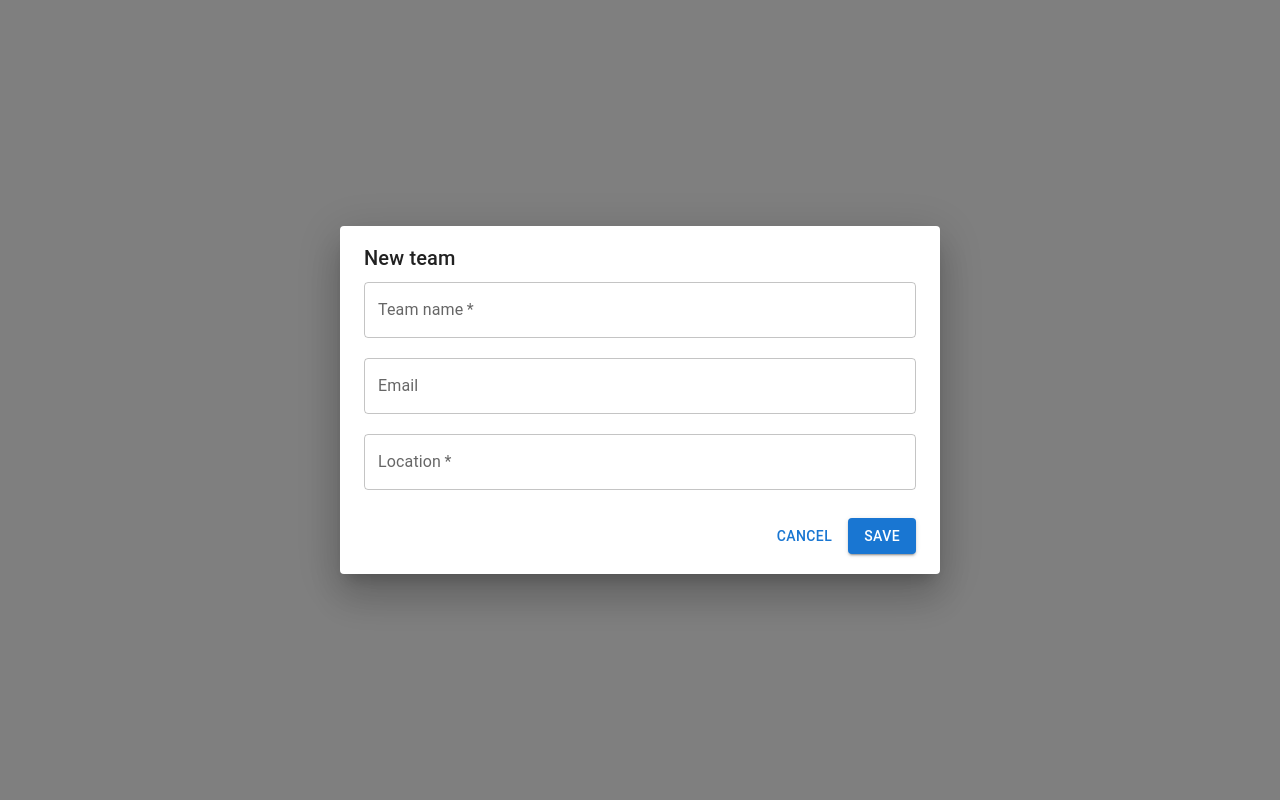
it: validation › rejects a malformed email
Type "Platform" into the field labelled "Team name *".
click(640, 310); type("Platform")  # box [364,282,916,338]
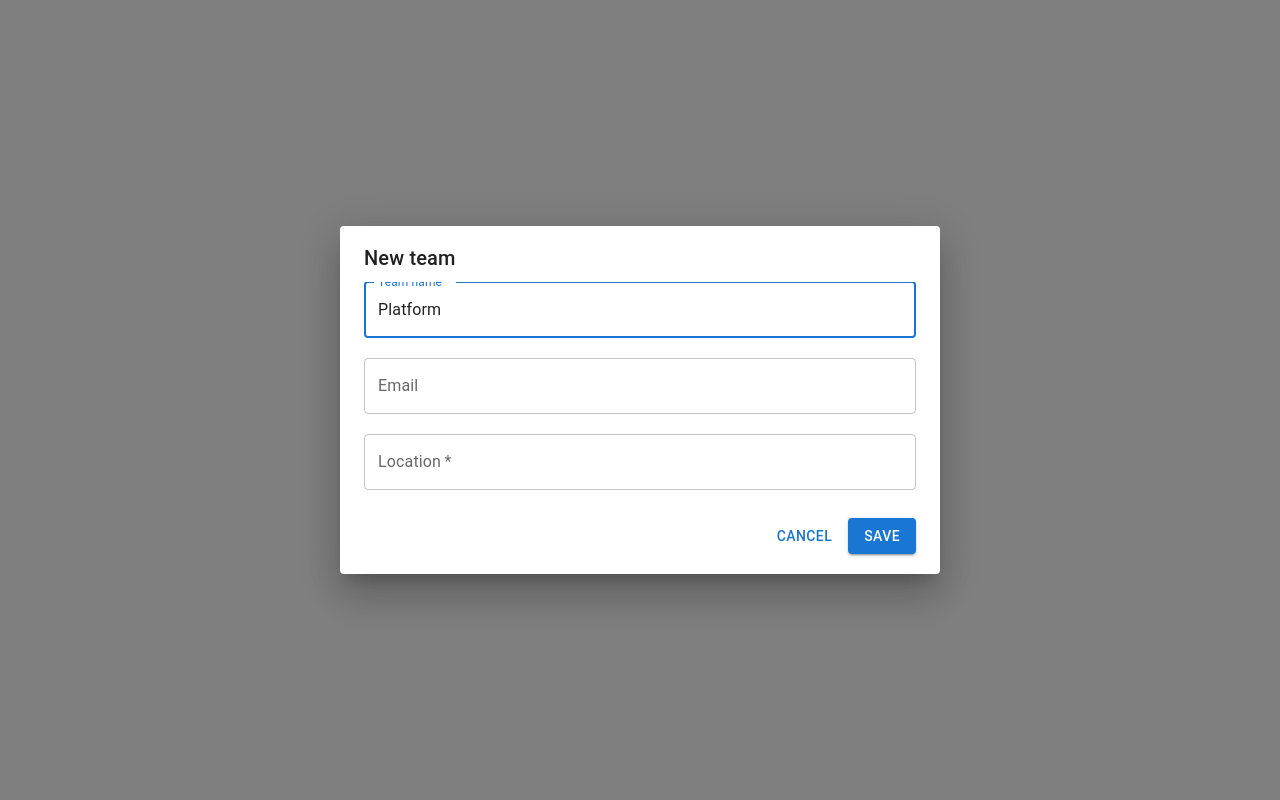
Type "London" into the field labelled "Location *".
click(640, 462); type("London")  # box [364,434,916,490]
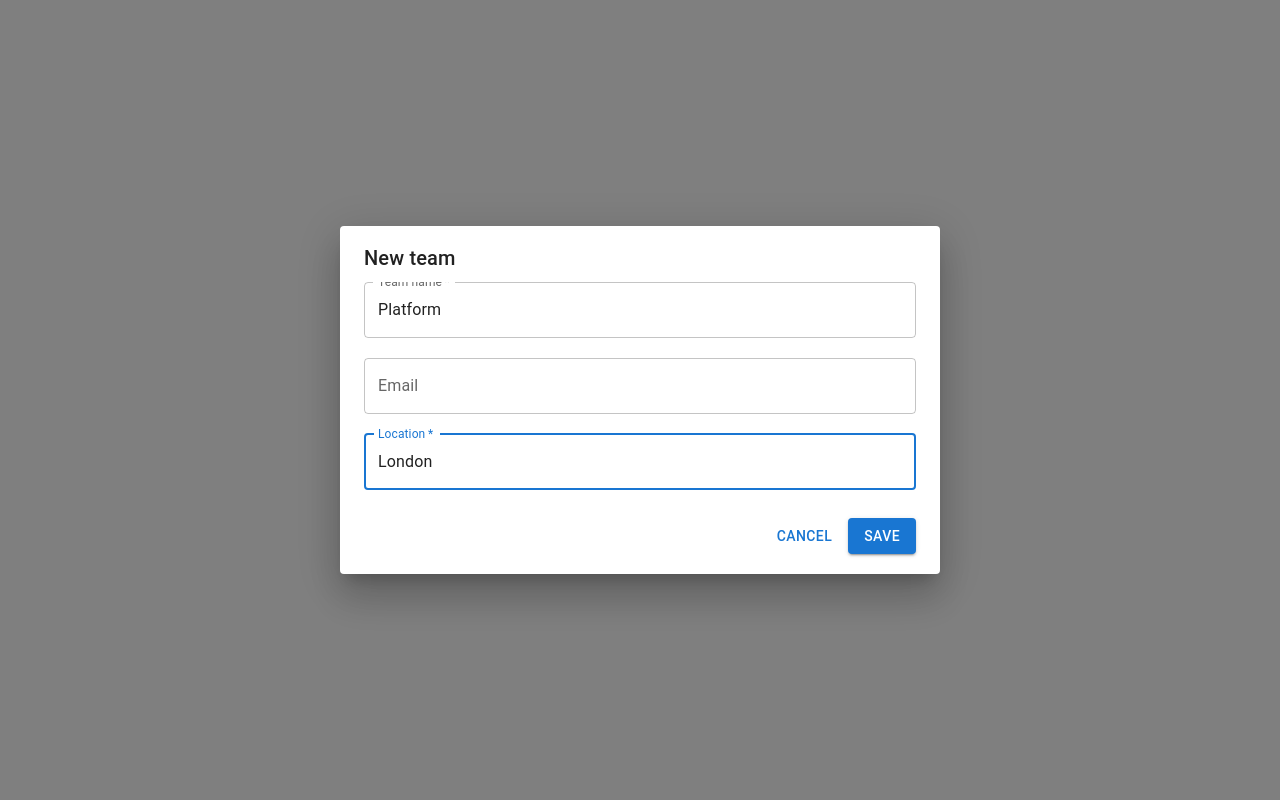
Type "not-an-email" into the field labelled "Email".
click(640, 386); type("not-an-email")  # box [364,358,916,414]
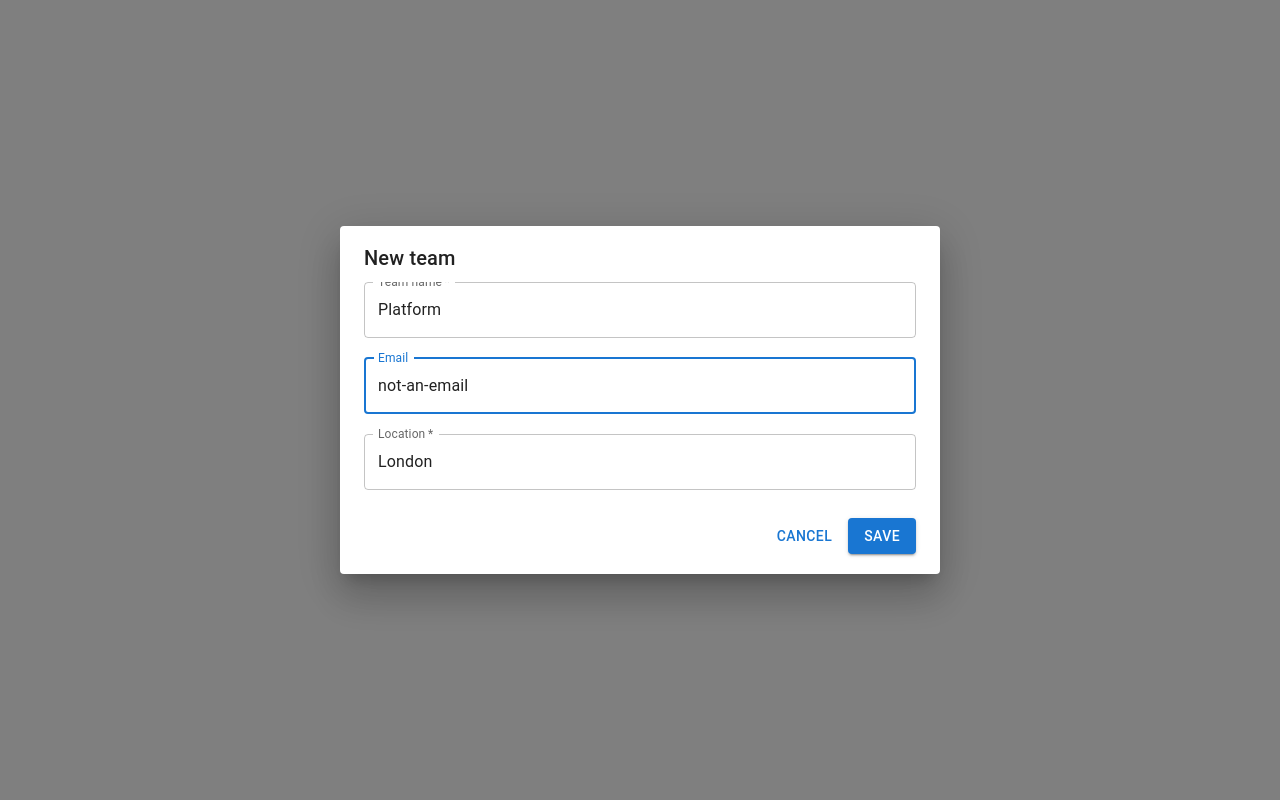
Click the button "Save".
click(882, 536)  # box [848,518,916,554]
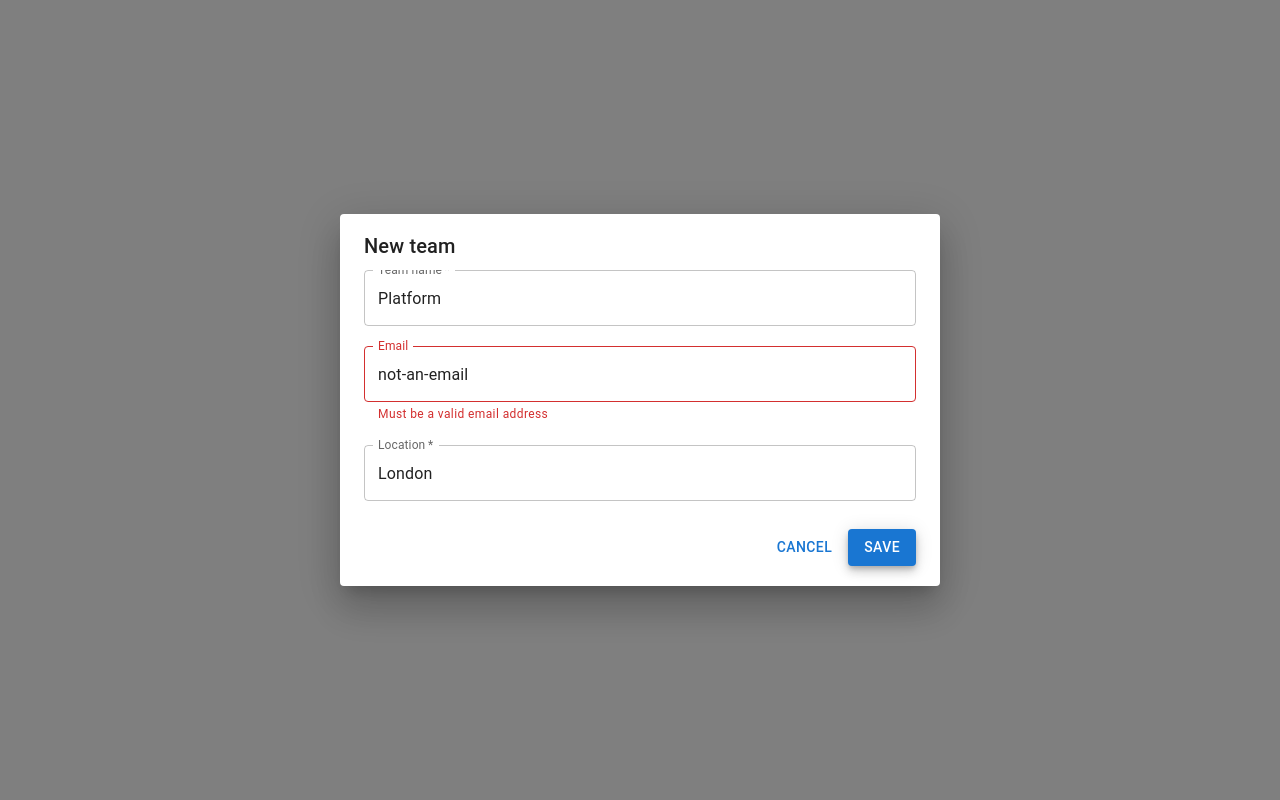
Now the text "Must be a valid email address" is shown, box [378,407,548,421]
